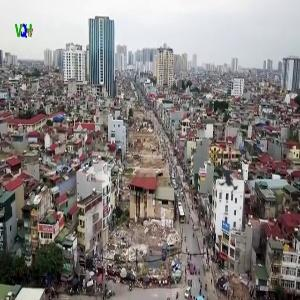drone: (201, 153, 256, 208)
